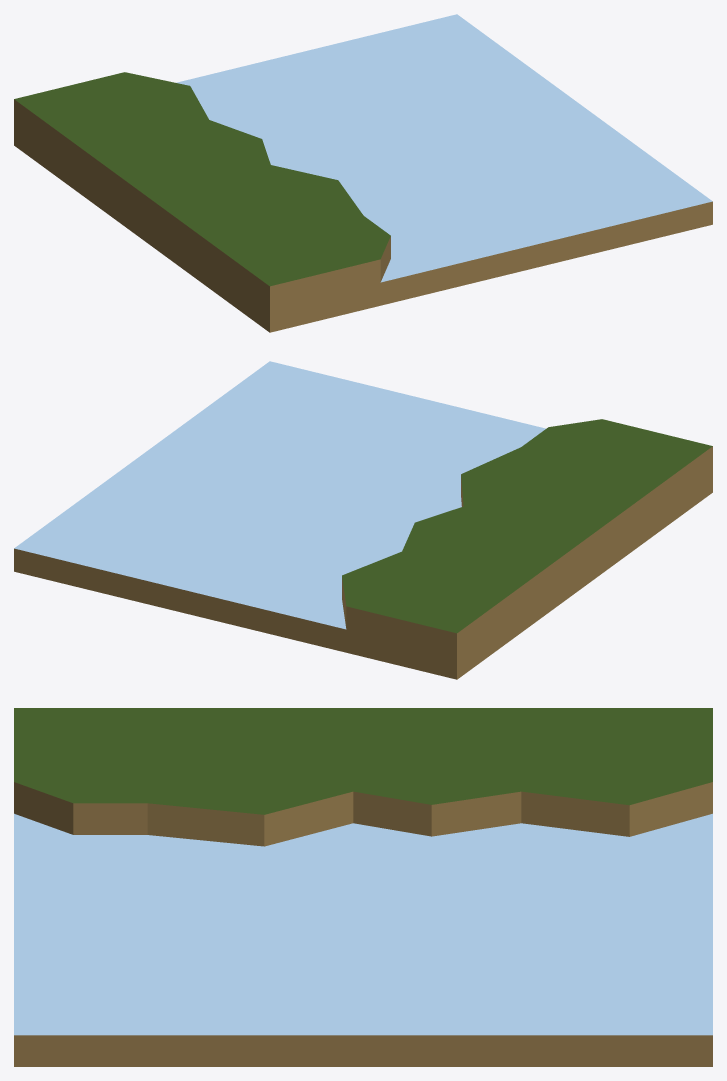
File: Terrain_Modular_Tiles_Grass_Dirt_Water_Edge_Straight_02.fbx
3 views of the same model, one above another, from view 1: azimuth 30°, elevation 25°; view 2: azimuth 150°, elevation 25°; view 3: azimuth 270°, elevation 25° (orthographic). The views are drawn at different scales.
Parts seen in each view (by area): view 1: Terrain_Modular_Tiles_Grass_Dirt_Water_Edge_Straight_02; view 2: Terrain_Modular_Tiles_Grass_Dirt_Water_Edge_Straight_02; view 3: Terrain_Modular_Tiles_Grass_Dirt_Water_Edge_Straight_02.
Part boxes in pixels (left/top/right/bottom): Terrain_Modular_Tiles_Grass_Dirt_Water_Edge_Straight_02: left=14, top=14, right=712, bottom=332; Terrain_Modular_Tiles_Grass_Dirt_Water_Edge_Straight_02: left=14, top=361, right=712, bottom=679; Terrain_Modular_Tiles_Grass_Dirt_Water_Edge_Straight_02: left=14, top=708, right=712, bottom=1066.
Size of the model in its own units: 118 by 11.81 by 118.
